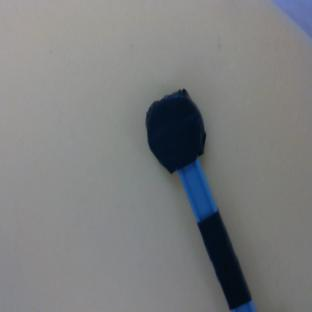part_3_bad: (136, 86, 255, 312)
